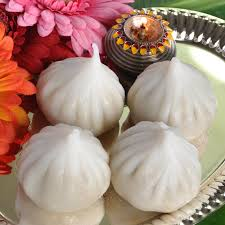modak: (107, 122, 206, 218), (22, 119, 119, 212), (35, 50, 131, 135), (129, 53, 223, 137)
